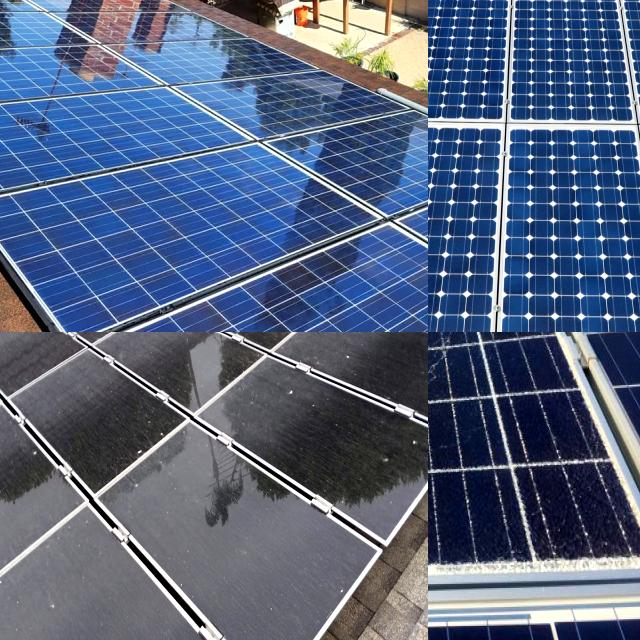crack: (0, 135, 396, 332), (0, 73, 248, 234), (470, 102, 640, 332), (217, 70, 428, 229), (428, 97, 549, 332), (162, 66, 426, 157), (428, 100, 524, 332), (490, 0, 640, 137), (324, 149, 428, 332), (428, 0, 517, 163), (428, 0, 523, 129)
dust: (242, 413, 392, 630), (0, 332, 109, 523), (114, 454, 226, 570), (312, 332, 428, 406), (14, 585, 142, 640), (99, 332, 255, 372), (263, 368, 392, 414), (0, 348, 28, 437)
hotspot: (428, 332, 482, 394)
